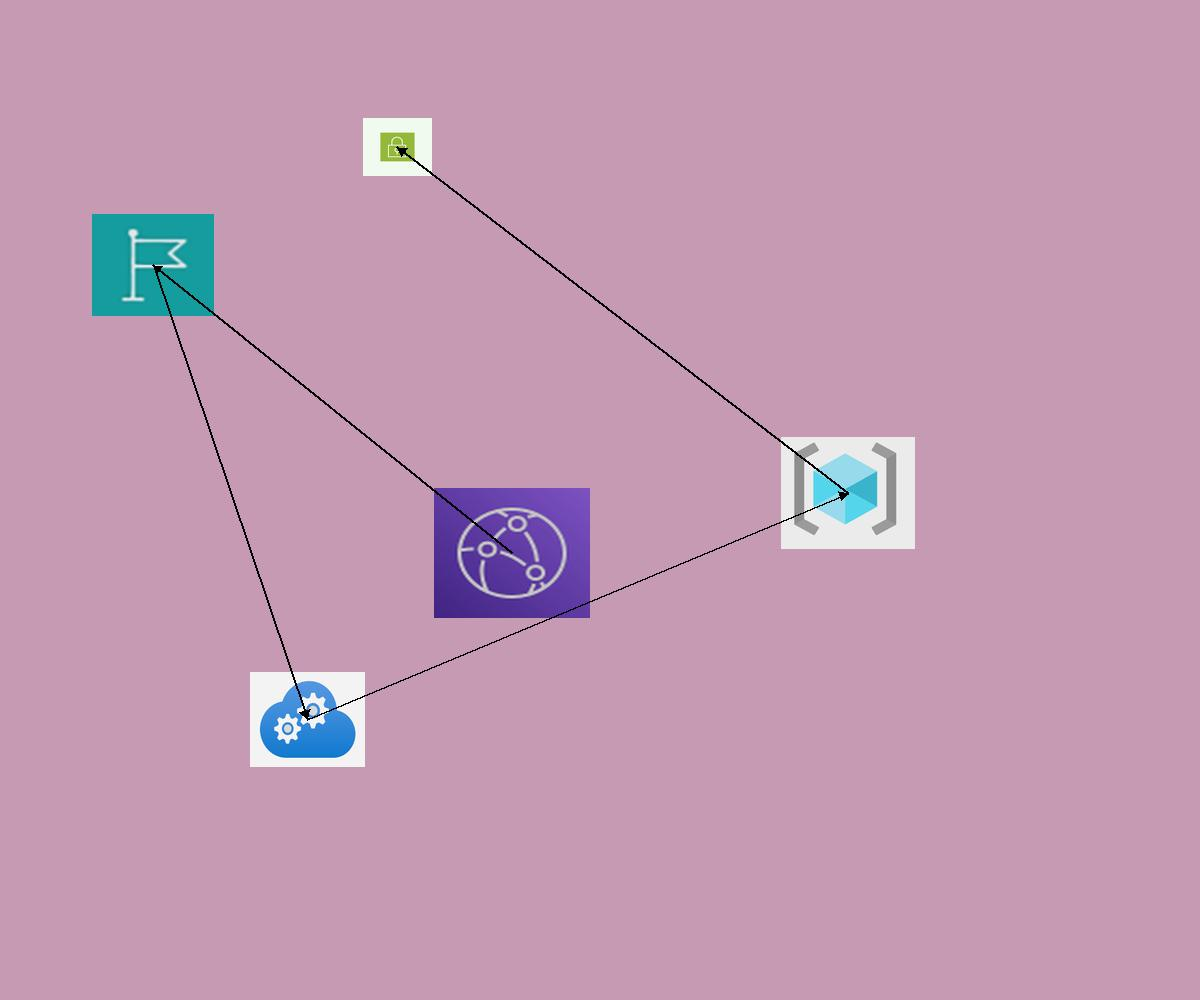AWS-CloudFront: (434, 488, 590, 618)
AWS-Public-subnet: (363, 118, 432, 176)
AWS-Region: (92, 214, 214, 316)
Azure_cloud_services: (250, 672, 365, 767)
Azure_resource_group: (781, 437, 915, 549)
